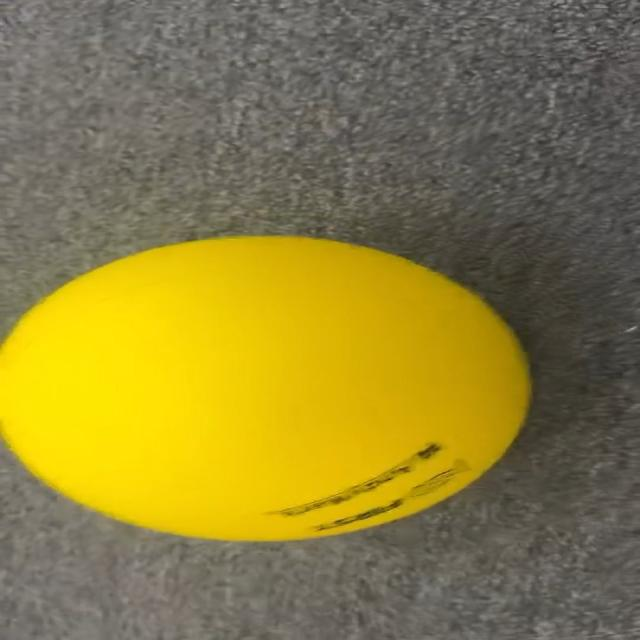Fuels: (4, 238, 532, 539)
